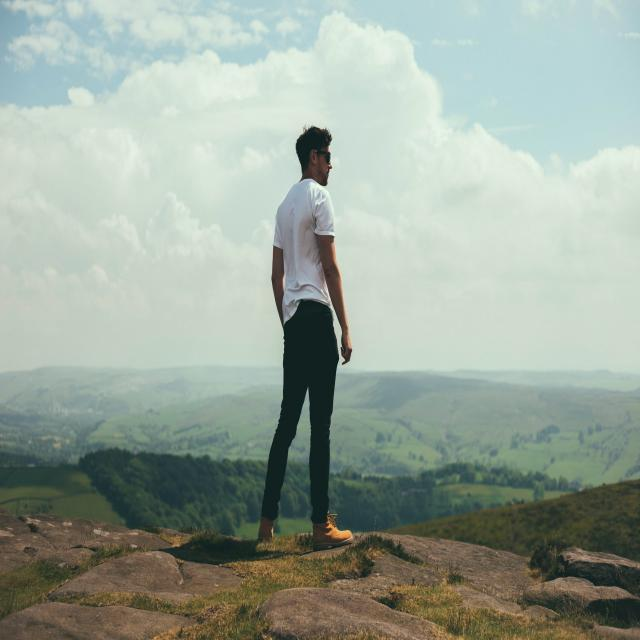adult: (256, 125, 354, 549)
